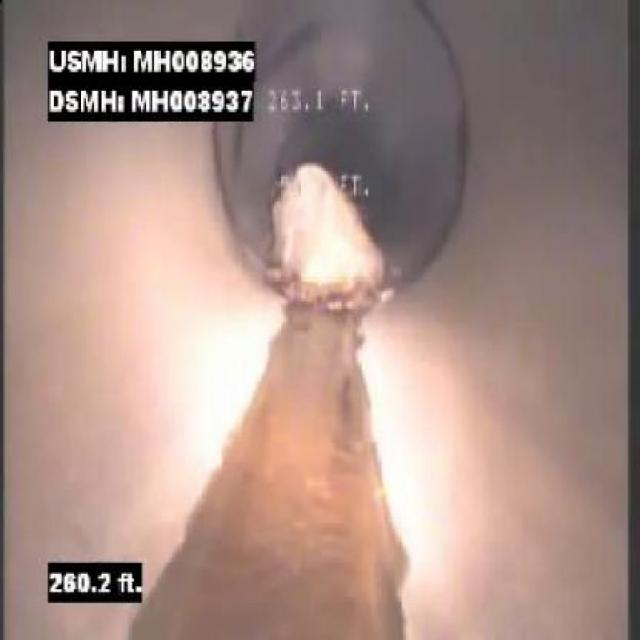Obstacle: (239, 145, 406, 309)
